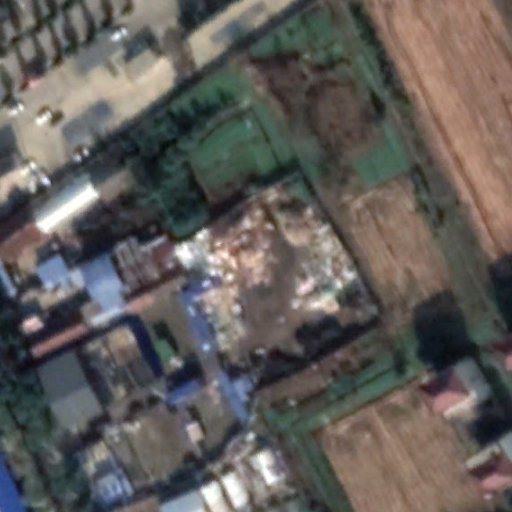msw: (172, 197, 382, 341)
